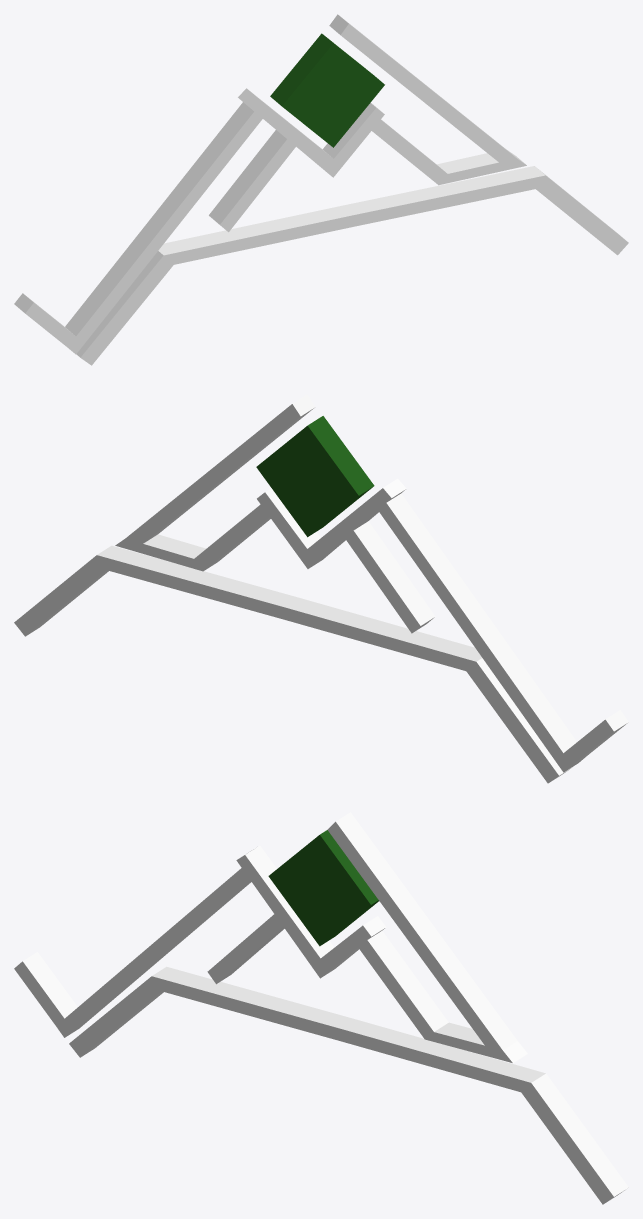
Rendered from maflah3d.glb.
The picture shows the model from 3 angles, top to bottom: view 1: azimuth 30°, elevation 25°; view 2: azimuth 150°, elevation 25°; view 3: azimuth 330°, elevation 25°; orthographic projection. The views are drawn at different scales.
Parts seen in each view (by area): view 1: basew; view 2: basew; view 3: basew.
Boxes of the visible parts, x1,y1,x2,y2 form: basew: [14, 14, 628, 365]; basew: [14, 394, 628, 783]; basew: [14, 812, 628, 1204].
Bounding box in the file's own units: 1.6 × 0.756 × 0.1614.
